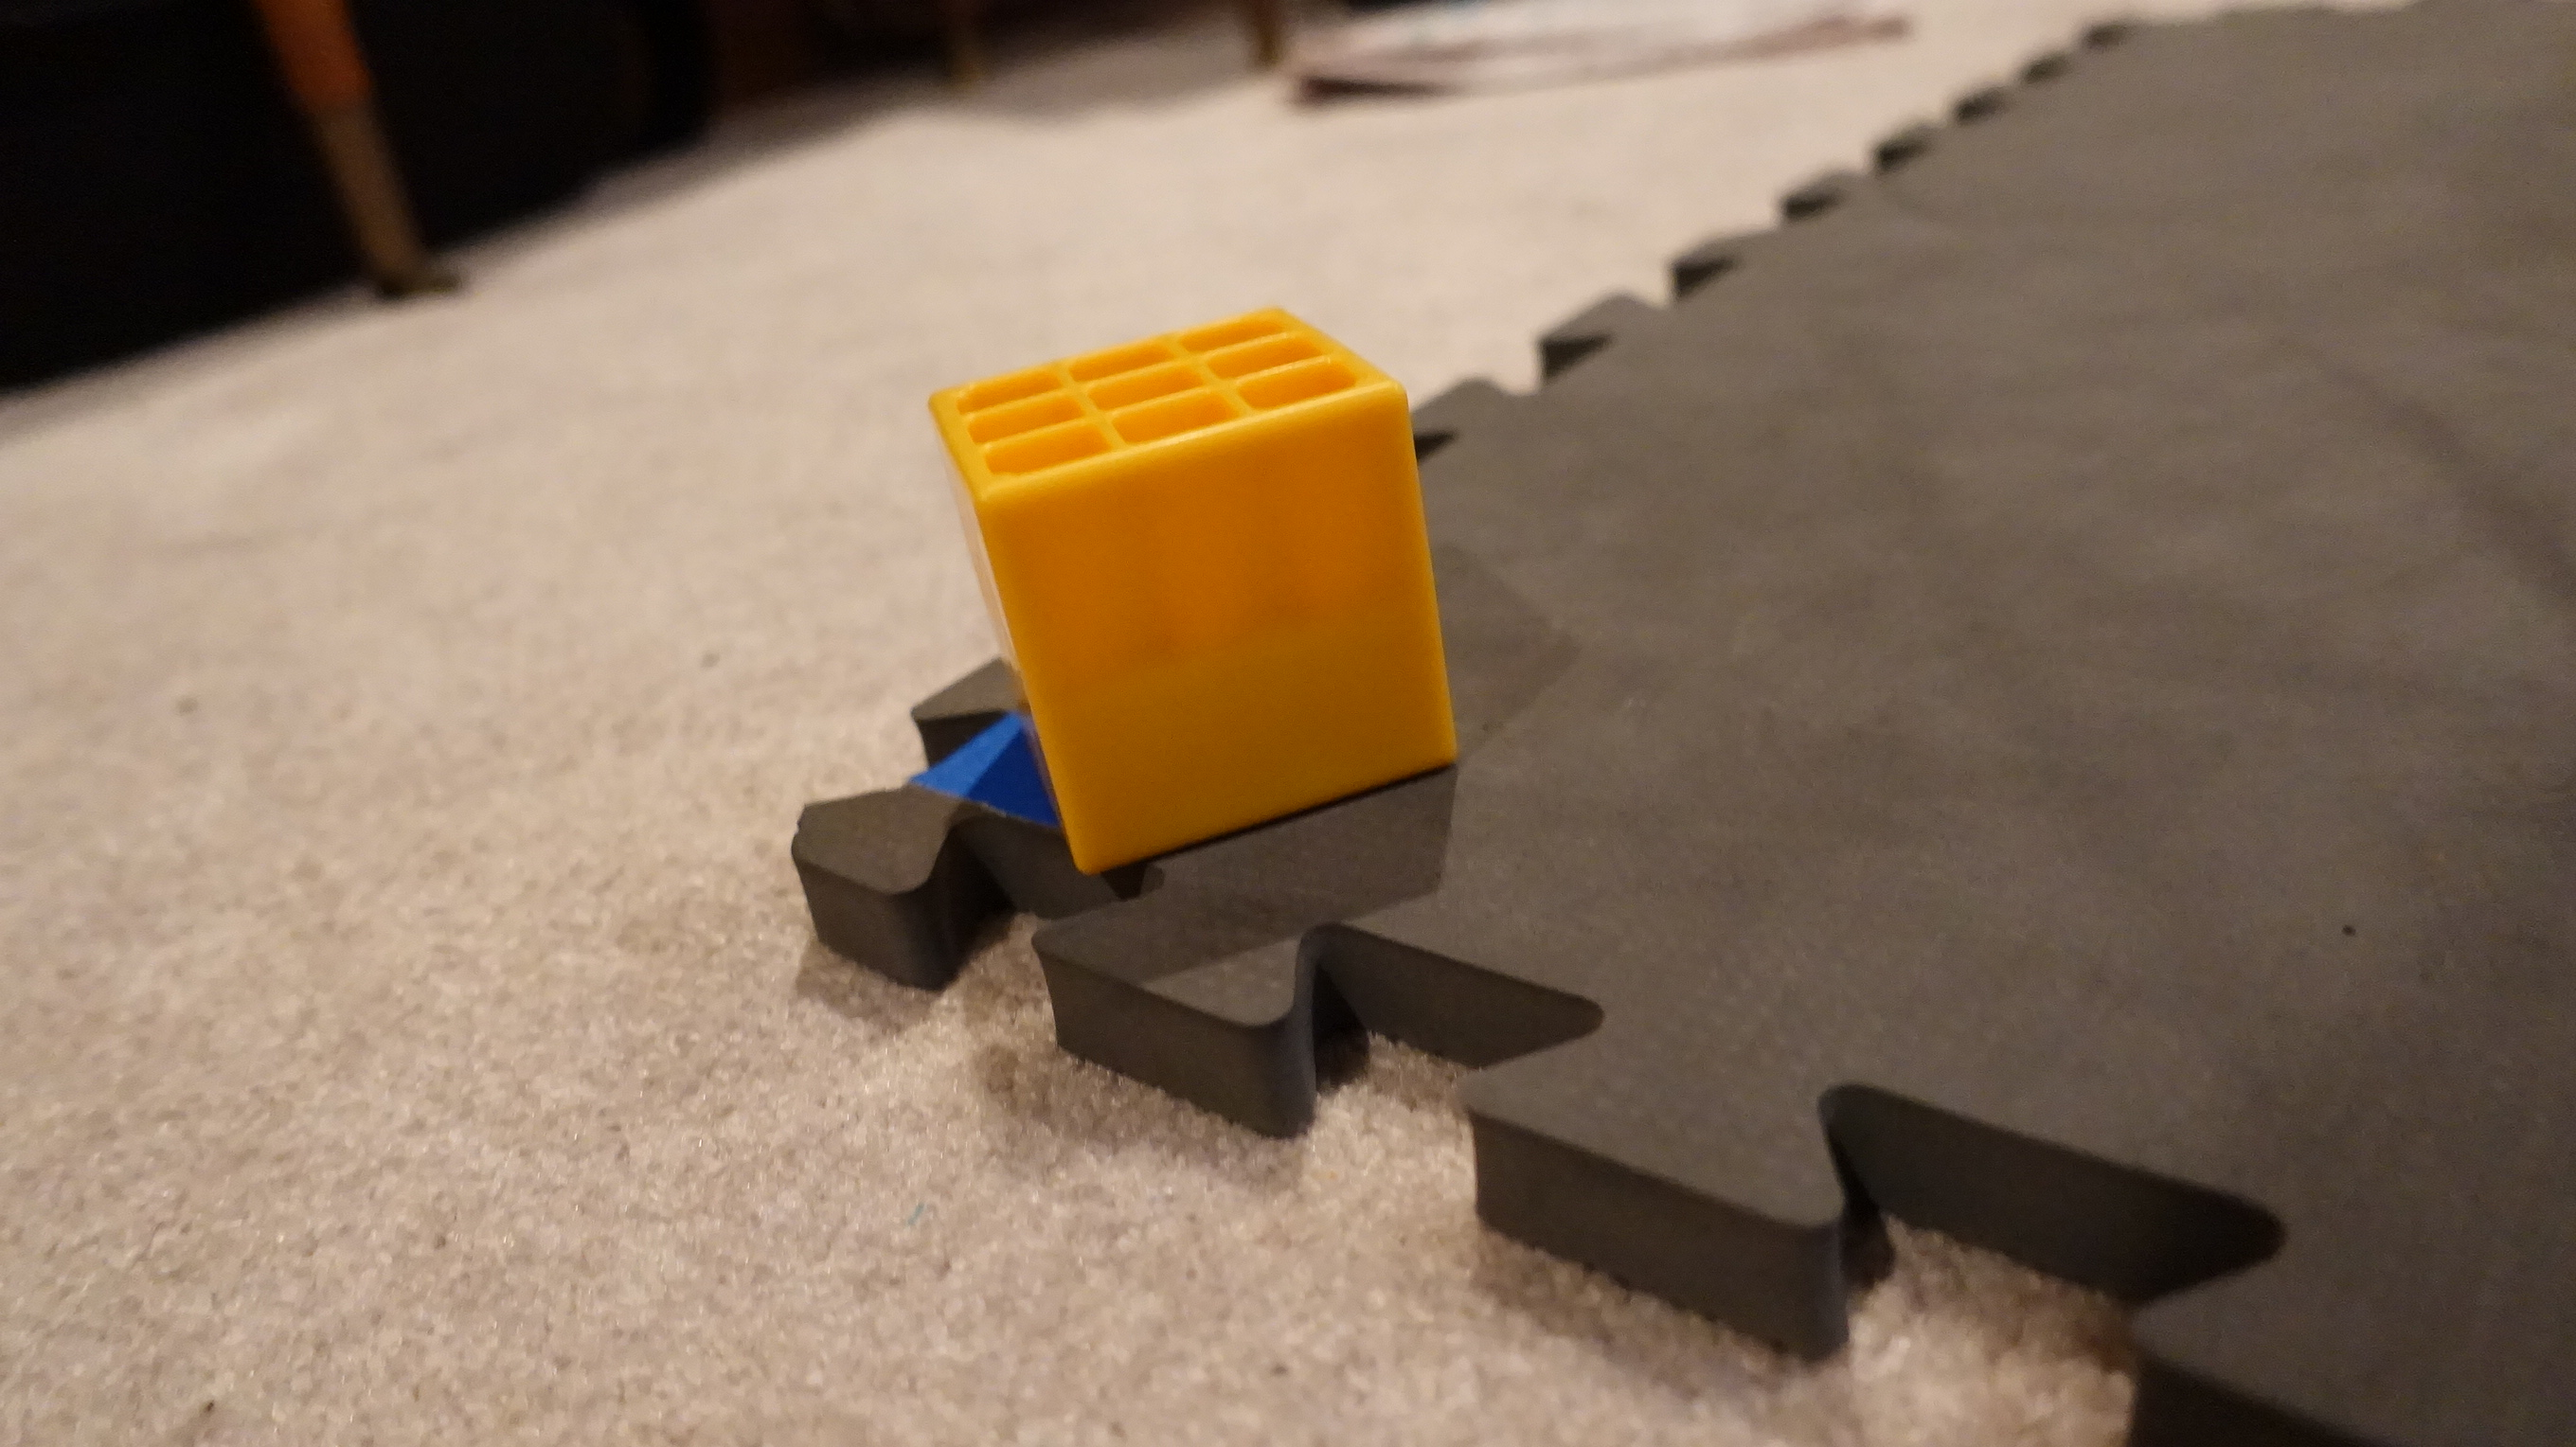gold: (922, 302, 1470, 890)
